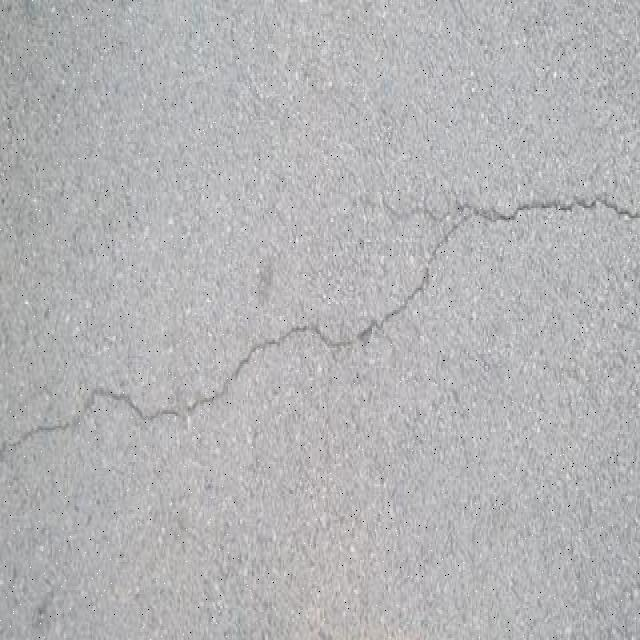minor crack: (395, 205, 475, 272)
moderate crack: (8, 350, 231, 451), (217, 312, 390, 393), (26, 586, 61, 626), (28, 419, 68, 434)
severe crack: (368, 6, 639, 218), (297, 190, 635, 354), (364, 290, 428, 341), (491, 198, 594, 216), (582, 196, 639, 220), (406, 266, 434, 302), (189, 388, 223, 411), (154, 406, 183, 419), (106, 387, 131, 398), (0, 445, 13, 464)
